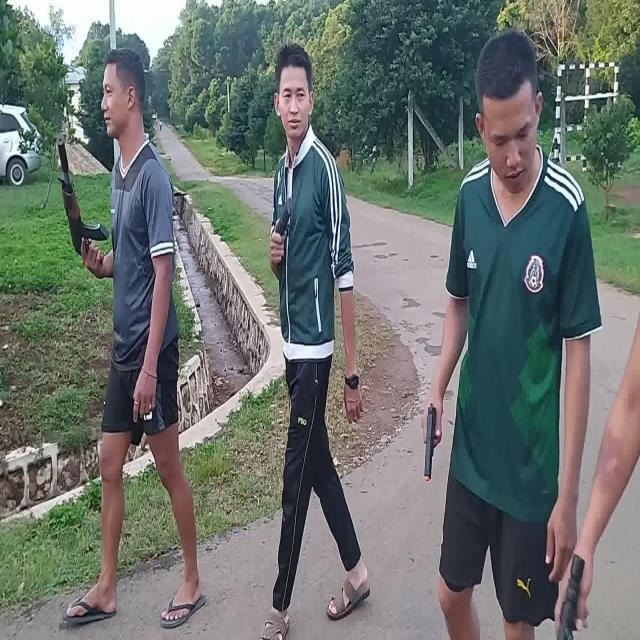gun: (57, 137, 109, 266), (425, 406, 437, 480)
